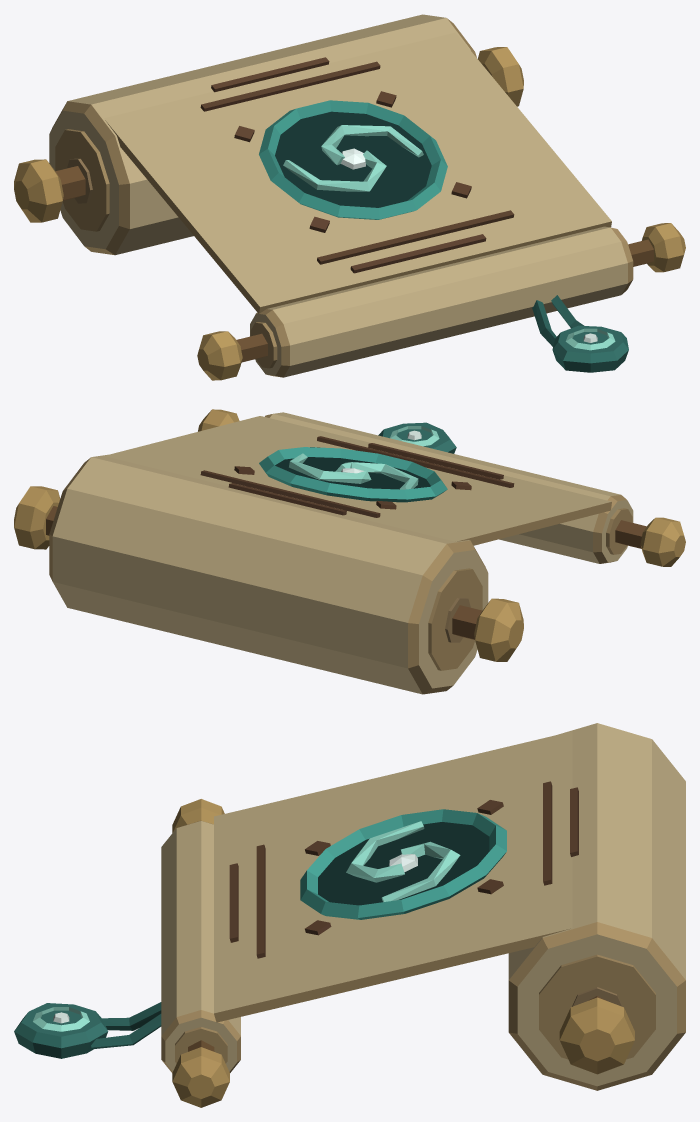
The model's file is item_room_portal.glb.
3 renders of one model, top to bottom at view 1: azimuth 30°, elevation 25°; view 2: azimuth 150°, elevation 25°; view 3: azimuth 270°, elevation 25°, orthographic. The views are drawn at different scales.
Parts seen in each view (by area): view 1: item_room_portal; view 2: item_room_portal; view 3: item_room_portal.
Part boxes in pixels (left/top/right/bottom): item_room_portal: left=14, top=14, right=685, bottom=380; item_room_portal: left=14, top=409, right=685, bottom=694; item_room_portal: left=14, top=723, right=685, bottom=1107.
Size of the model in its own units: 0.562 by 0.16 by 0.5768.
